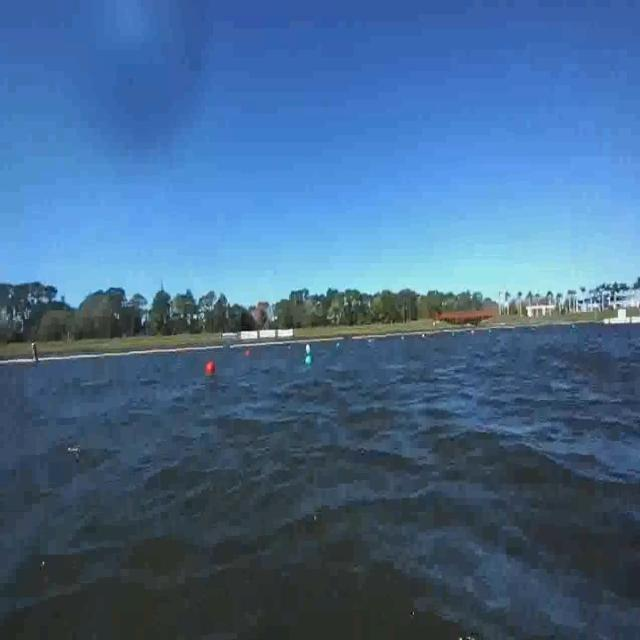green-buoy: (304, 354, 315, 368)
red-buoy: (206, 360, 216, 375)
